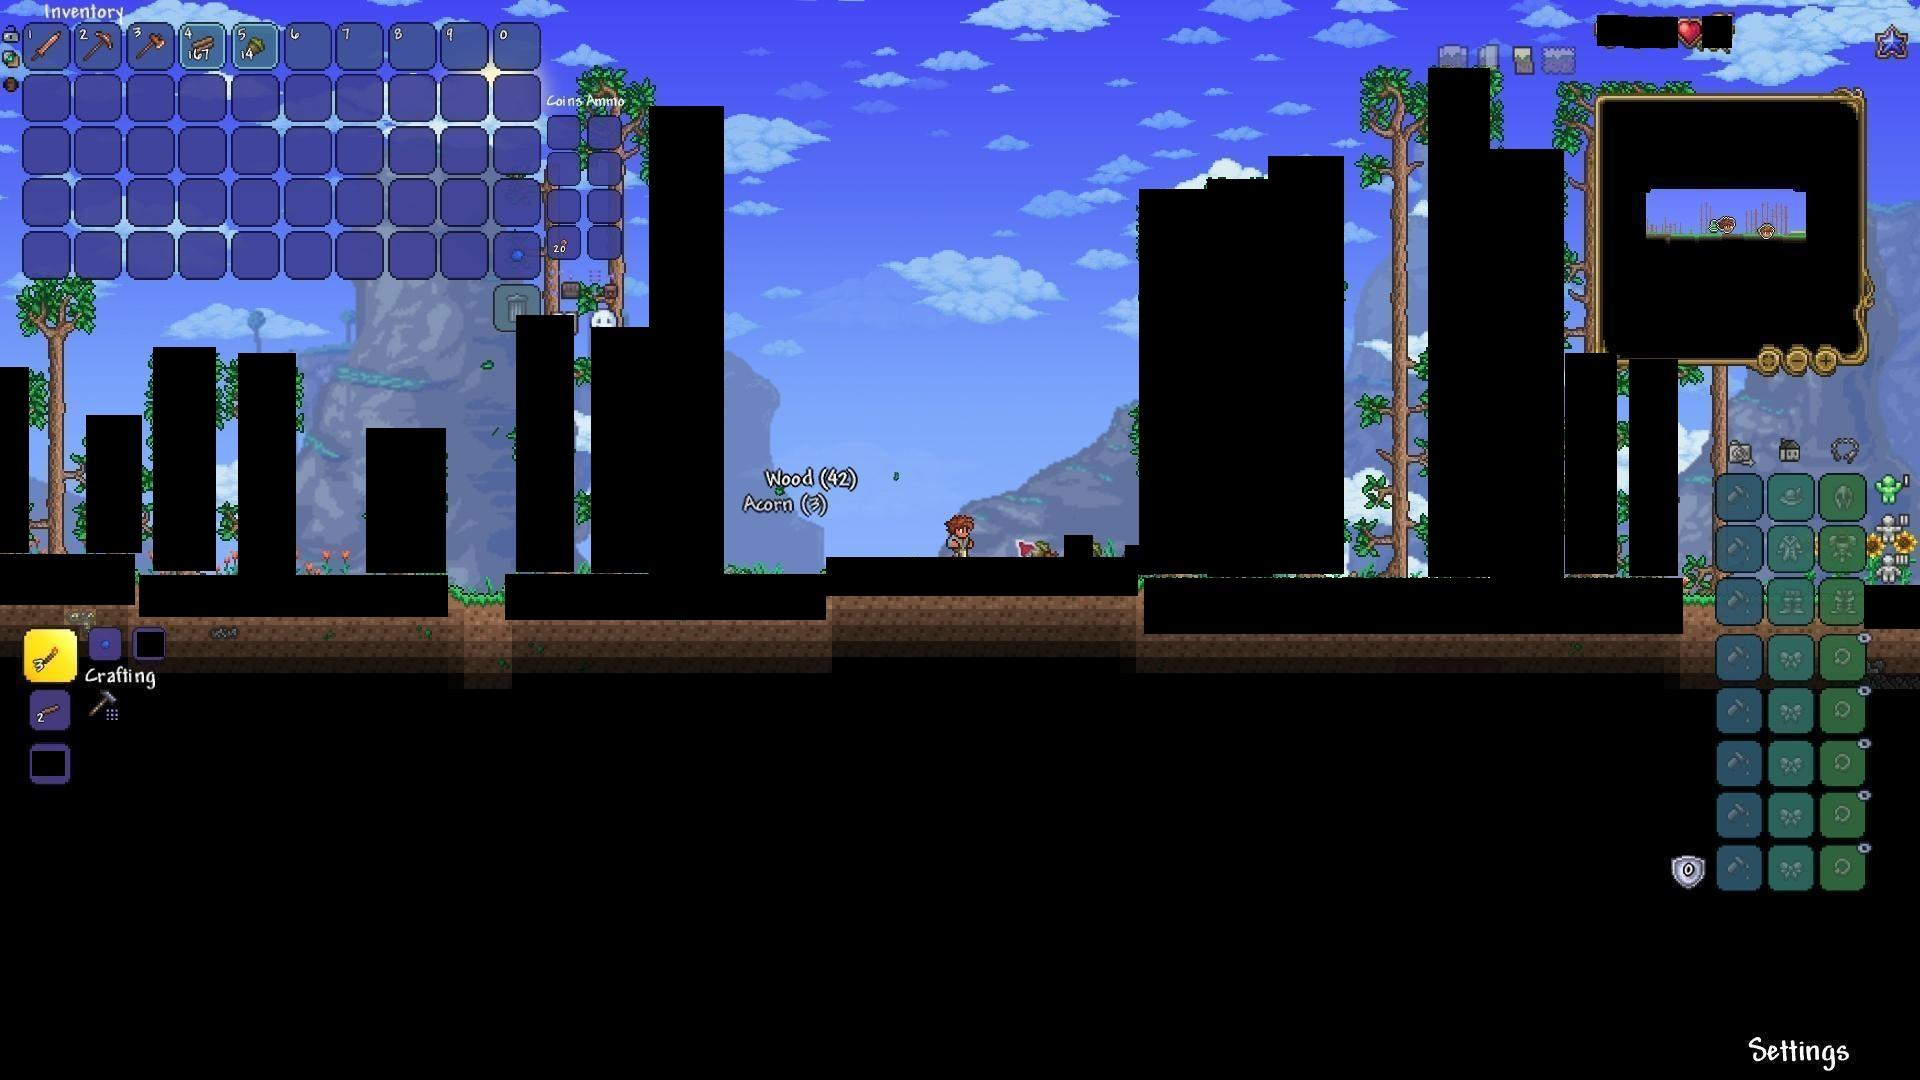dirt: (454, 585, 506, 615)
heart: (1676, 17, 1704, 47)
tree: (1360, 65, 1428, 575), (30, 274, 88, 553)
wood: (189, 32, 219, 55)
